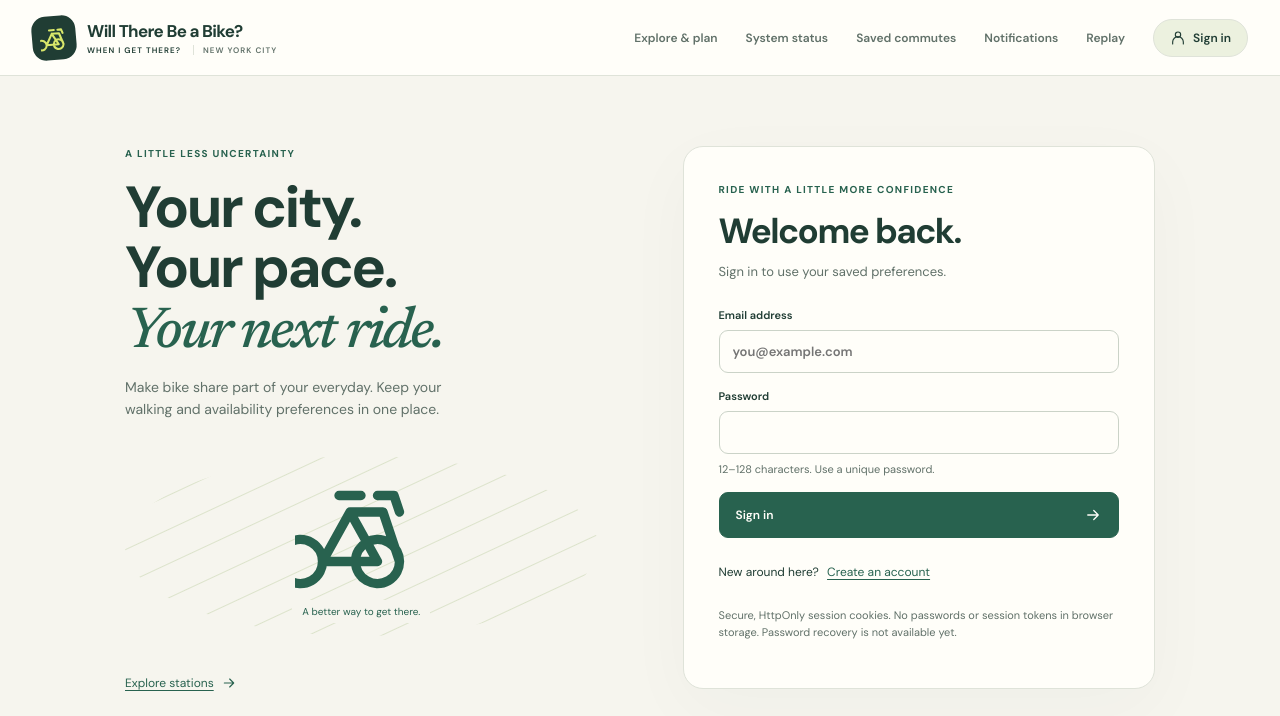
Test: loads persisted defaults before publishing a newly authenticated account
Type "rider@example.test" into the field labelled "Email address" at (919, 352), box [718,330,1119,373]
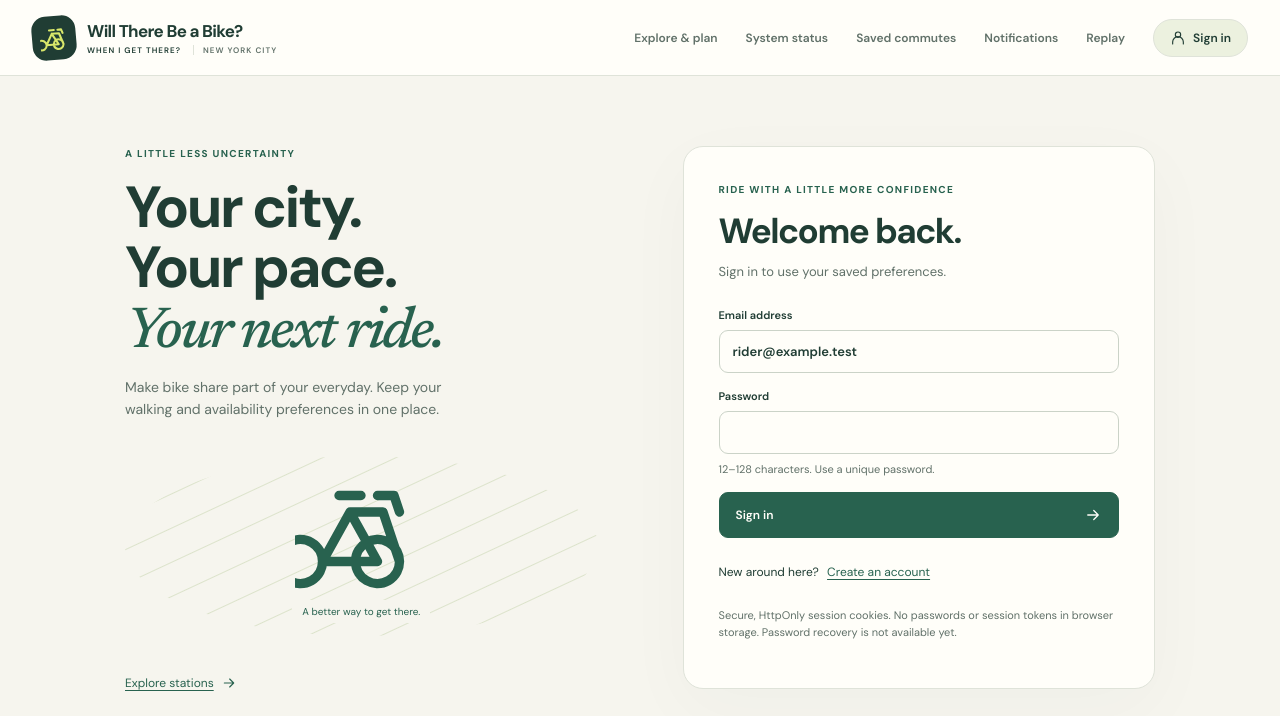
Type "test-only-password-123" into the password field labelled "Password" at (919, 432), box [718,411,1119,454]
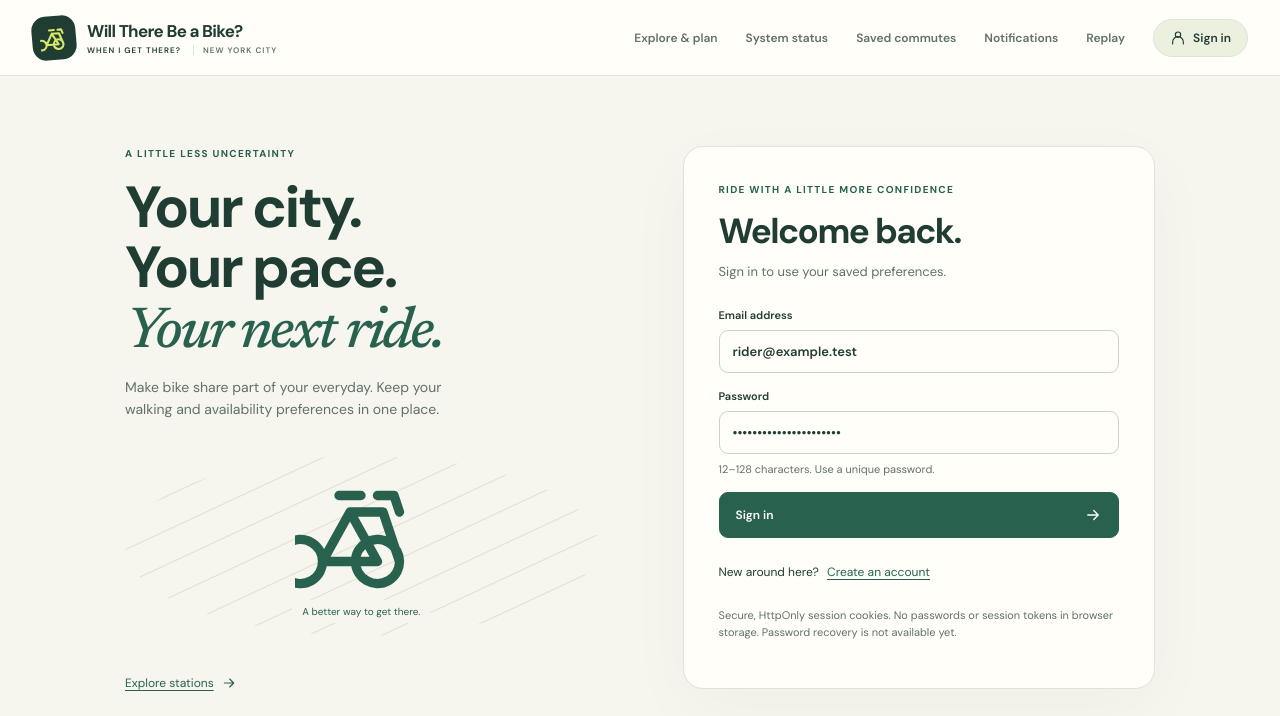
Click the button "Sign in" at (754, 515), box [718,492,1119,538]
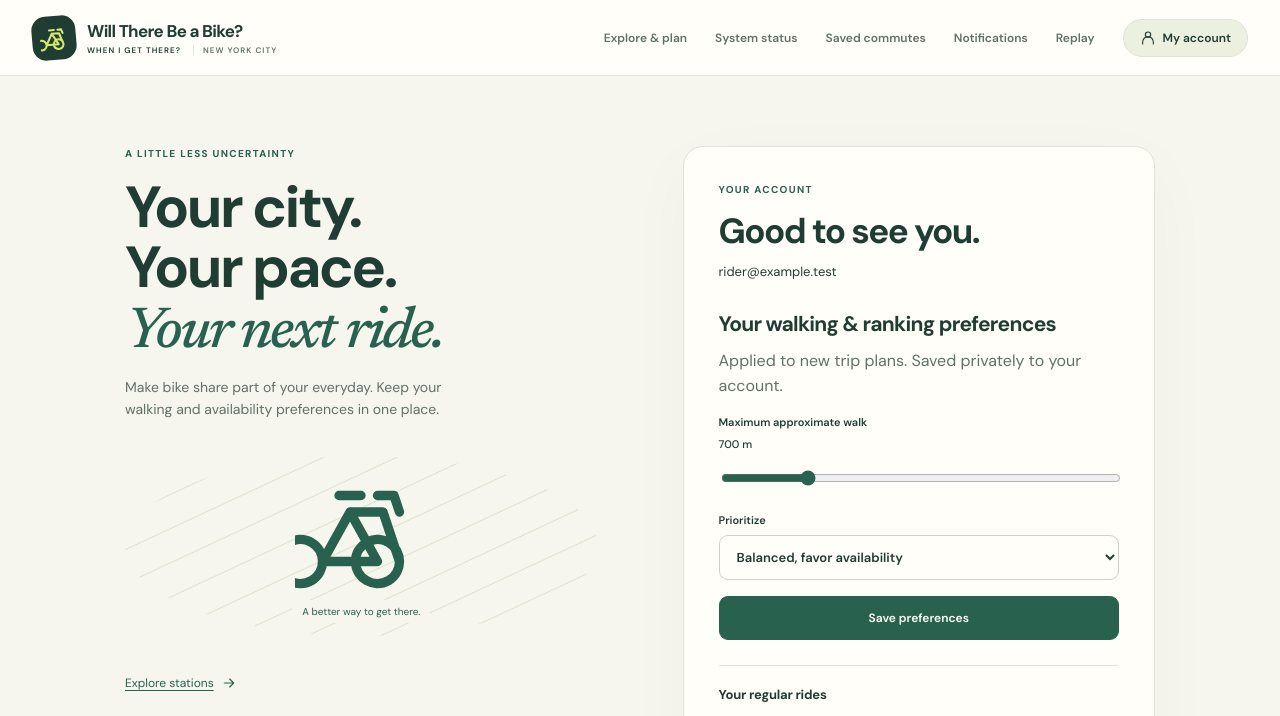
Expected: the slider labelled "Maximum approximate walk 700 m" holds "700", [720,461,1121,495]
